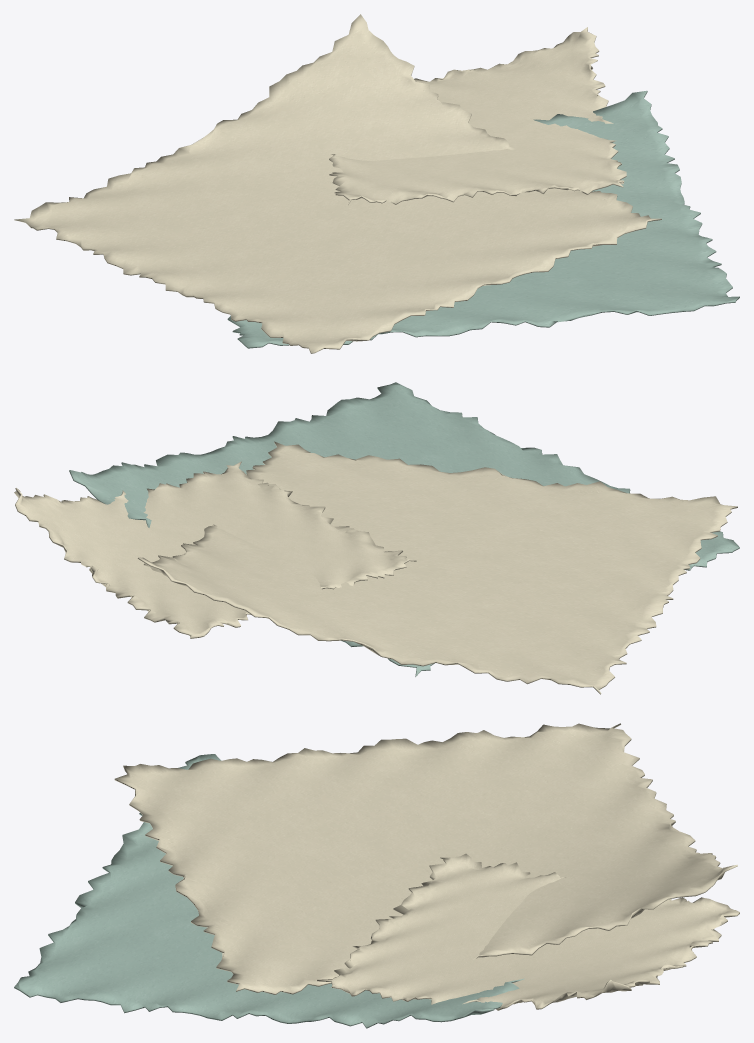
File: deckle.glb
The picture shows the model from 3 angles, top to bottom: view 1: azimuth 30°, elevation 25°; view 2: azimuth 150°, elevation 25°; view 3: azimuth 270°, elevation 25°; orthographic projection. The views are drawn at different scales.
Visible parts, largest first — view 1: Ivory cotton sheet, Tinted rag sheet, Heavy paper fragment; view 2: Ivory cotton sheet, Heavy paper fragment, Tinted rag sheet; view 3: Ivory cotton sheet, Heavy paper fragment, Tinted rag sheet.
Boxes of the visible parts, left/top/right/bottom form: Ivory cotton sheet: left=14, top=14, right=661, bottom=353; Tinted rag sheet: left=227, top=90, right=739, bottom=348; Heavy paper fragment: left=329, top=27, right=626, bottom=204; Ivory cotton sheet: left=138, top=441, right=737, bottom=694; Heavy paper fragment: left=14, top=461, right=416, bottom=638; Tinted rag sheet: left=69, top=382, right=739, bottom=676; Ivory cotton sheet: left=114, top=723, right=737, bottom=994; Heavy paper fragment: left=317, top=853, right=739, bottom=1010; Tinted rag sheet: left=14, top=754, right=524, bottom=1028.
Bounding box in the file's own units: 0.323 × 0.0438 × 0.3046.
Materials: 2 (2 with a texture image).
